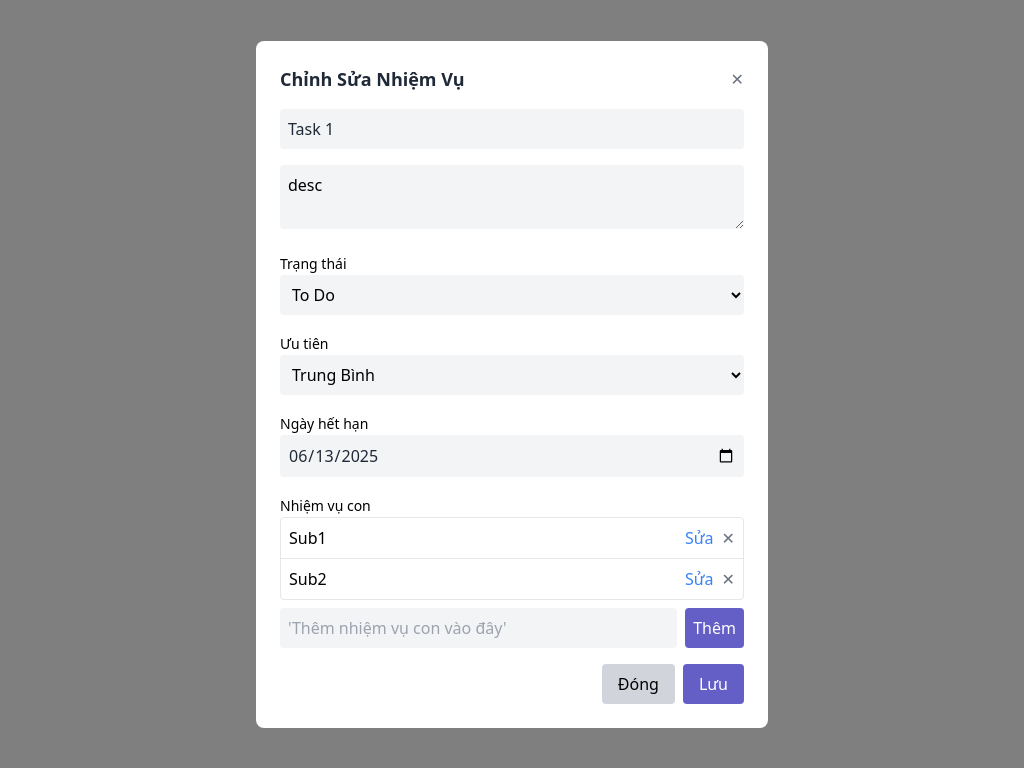
Scenario: EditTaskModal › báo lỗi tên subtask trùng
The width and height of the screenshot is (1024, 768).
In the field with placeholder "'Thêm nhiệm vụ con vào đây'": (479, 628) [280,608,677,648], type "Sub1"
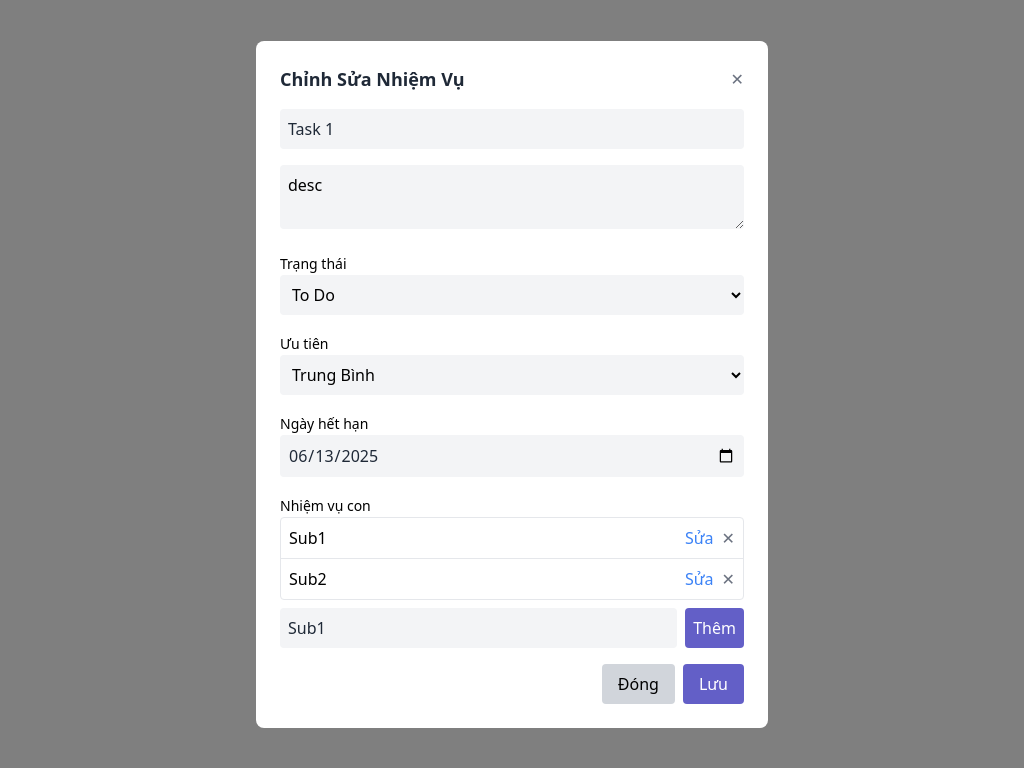
Click the button "Thêm": (715, 628) [685,608,744,648]
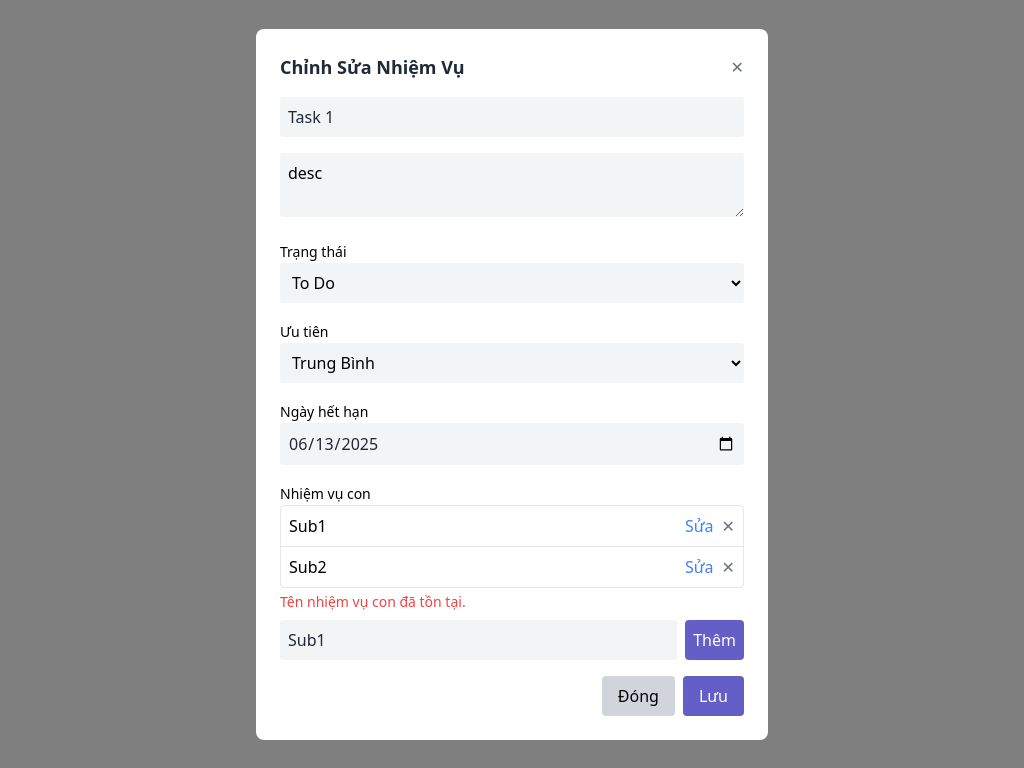
expect the text "Tên nhiệm vụ con đã tồn tại." is shown: met, box [280,592,466,610]
